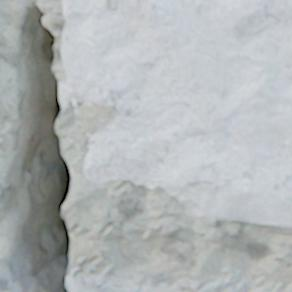brick: (60, 0, 291, 227)
crack: (0, 0, 75, 291)
